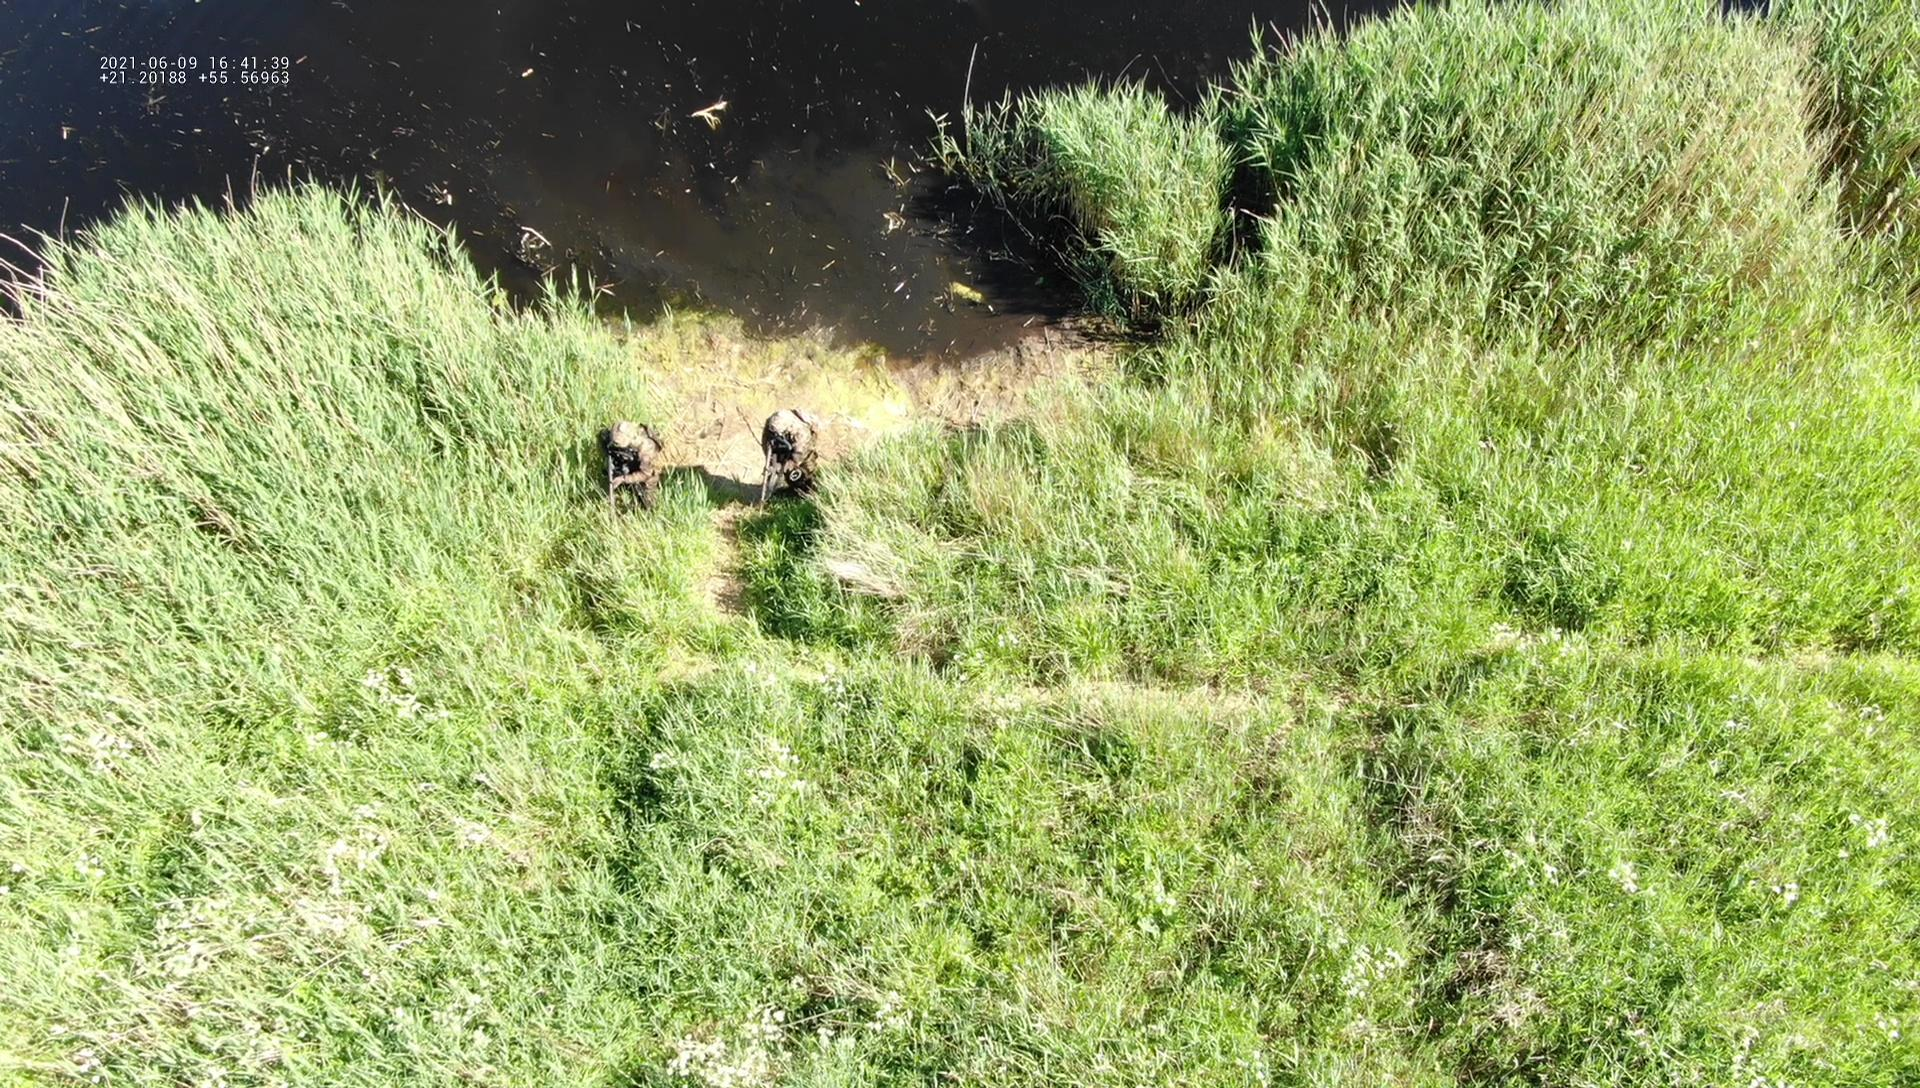Soldier: (757, 405, 822, 514), (605, 418, 667, 529)
